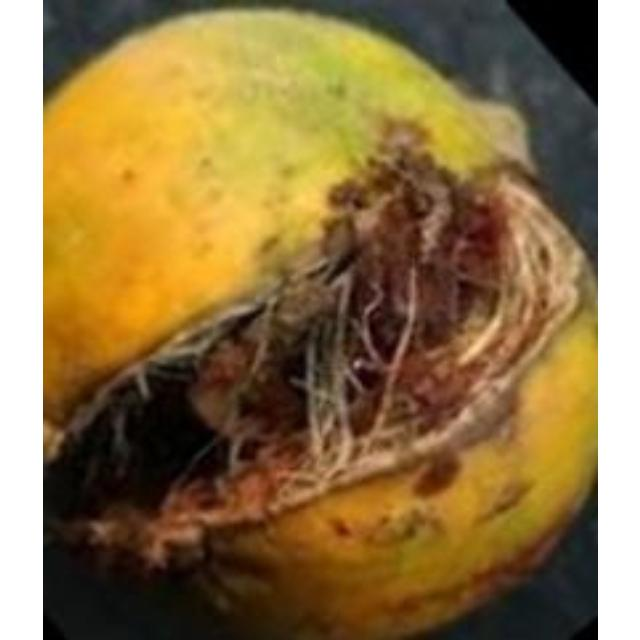damaged: (42, 8, 594, 637)
